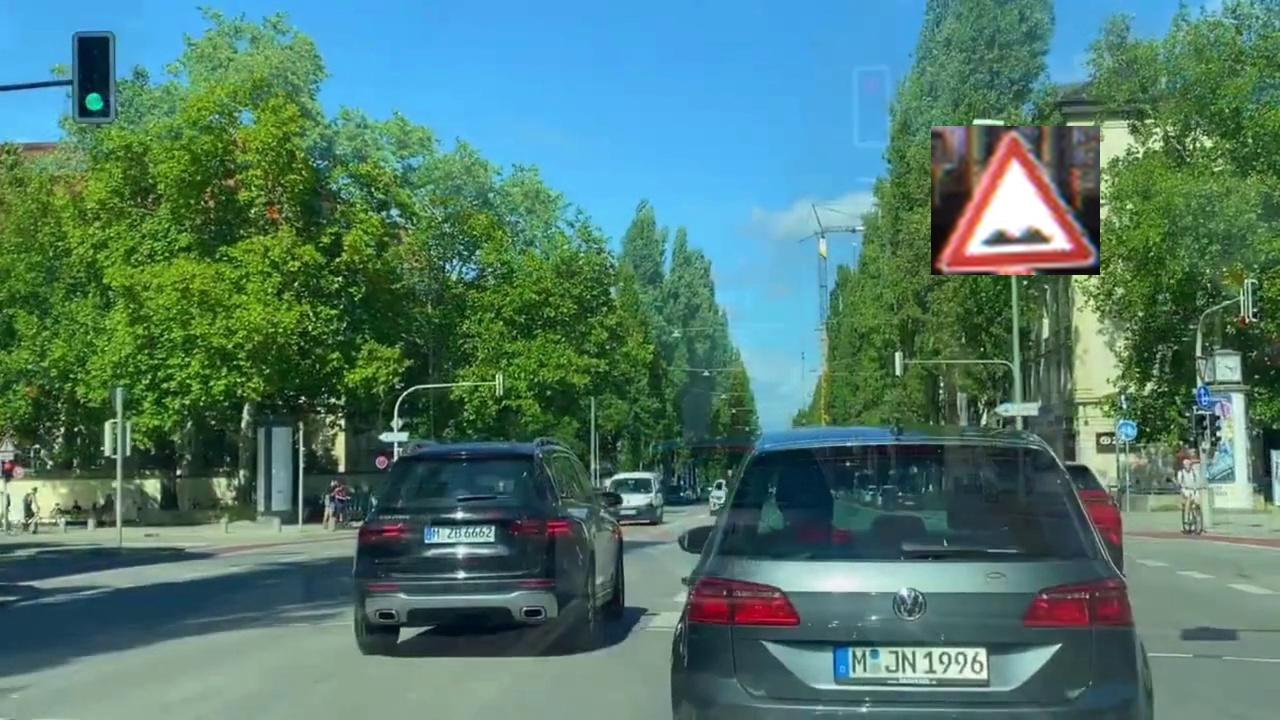Bumpy road: (931, 126, 1100, 275)
